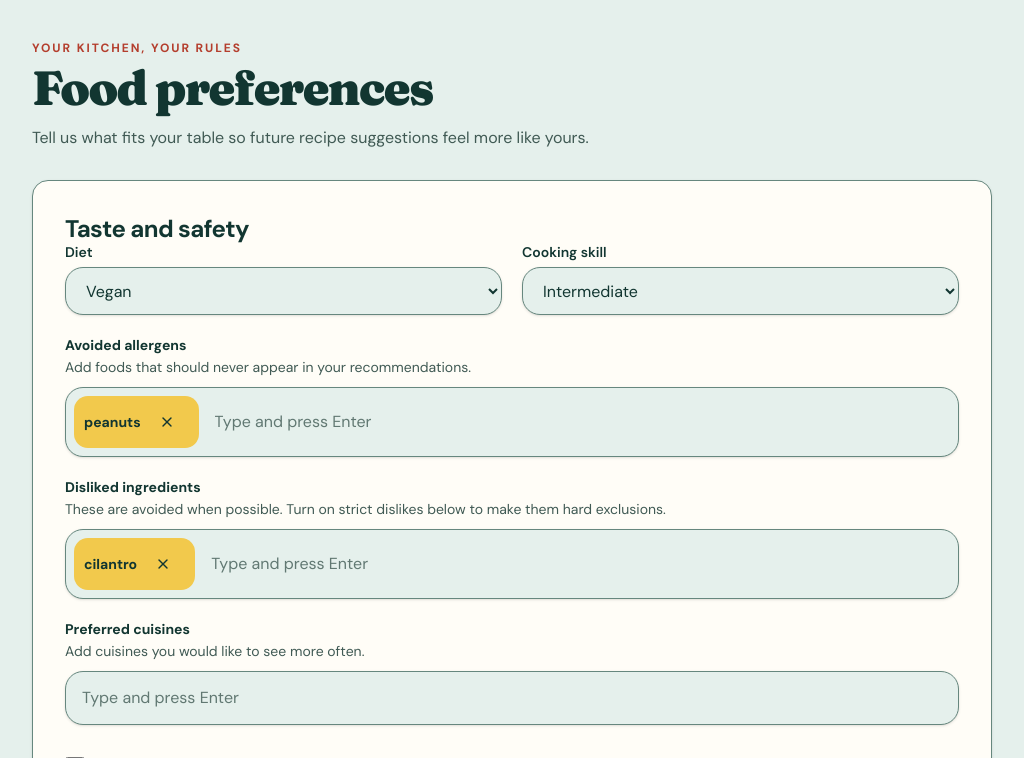
Scenario: FoodPreferencesPage › adds a cuisine chip with Enter and exposes a keyboard-operable remove button
Type "Italian" into the field named "Preferred cuisines" at x=512, y=698, box [74,680,950,716]
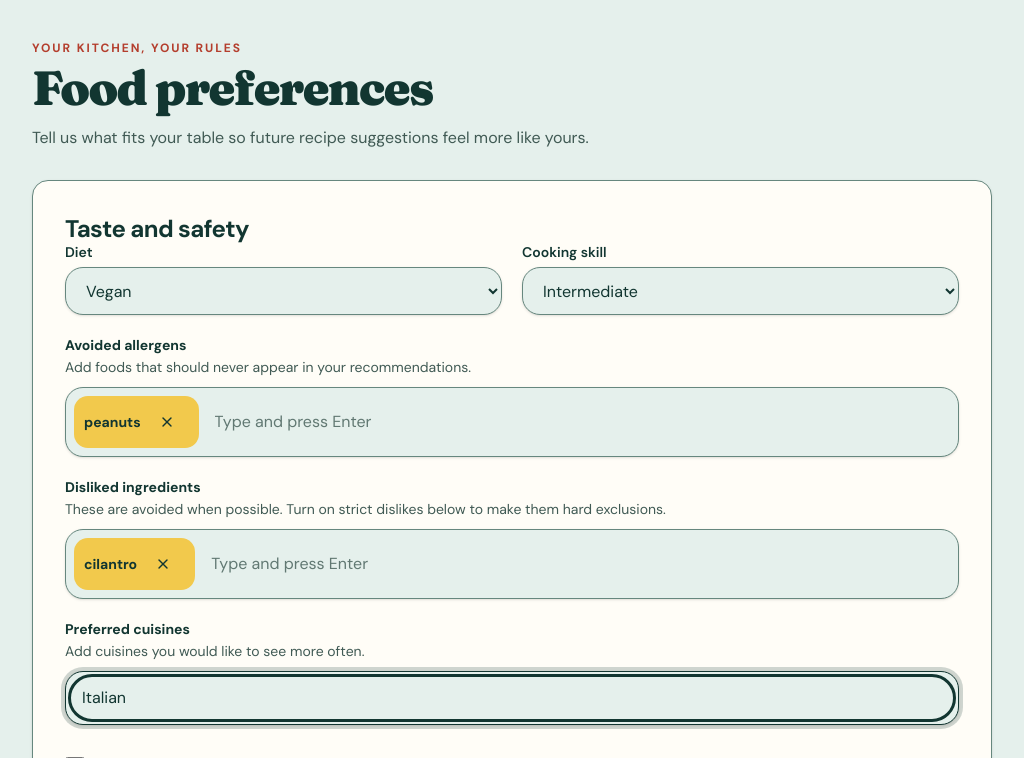
Press Enter
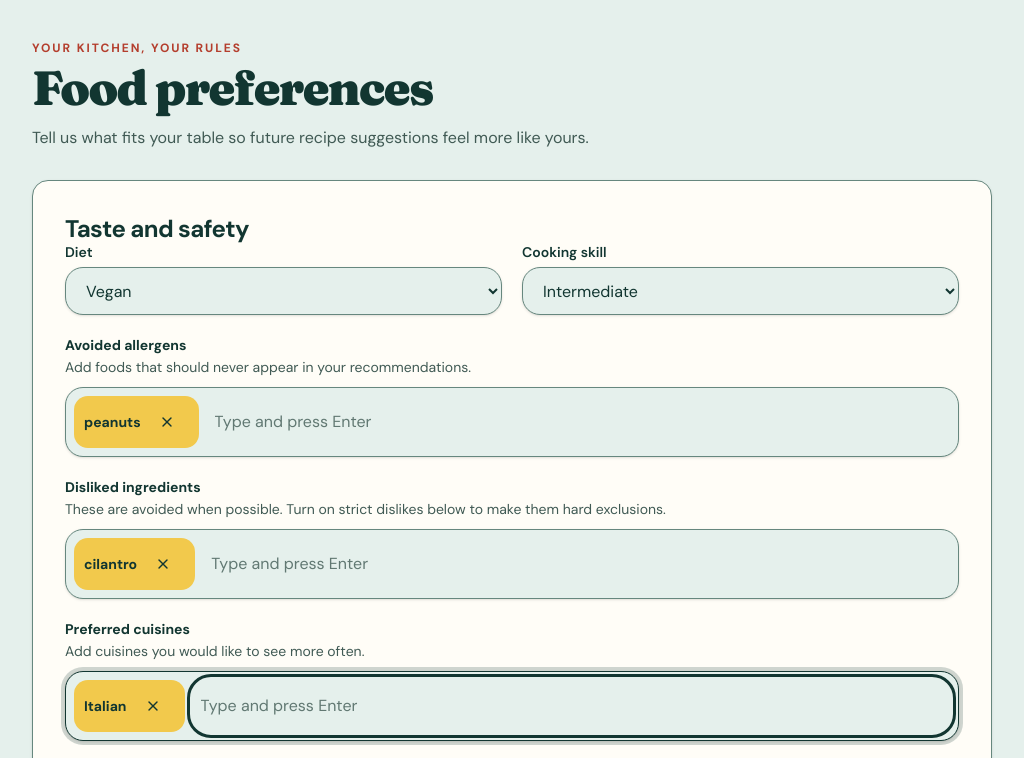
Result: the text "Italian" is shown at [84,696,126,716]
Result: the button named "Remove Italian" is shown at [130,684,174,728]
